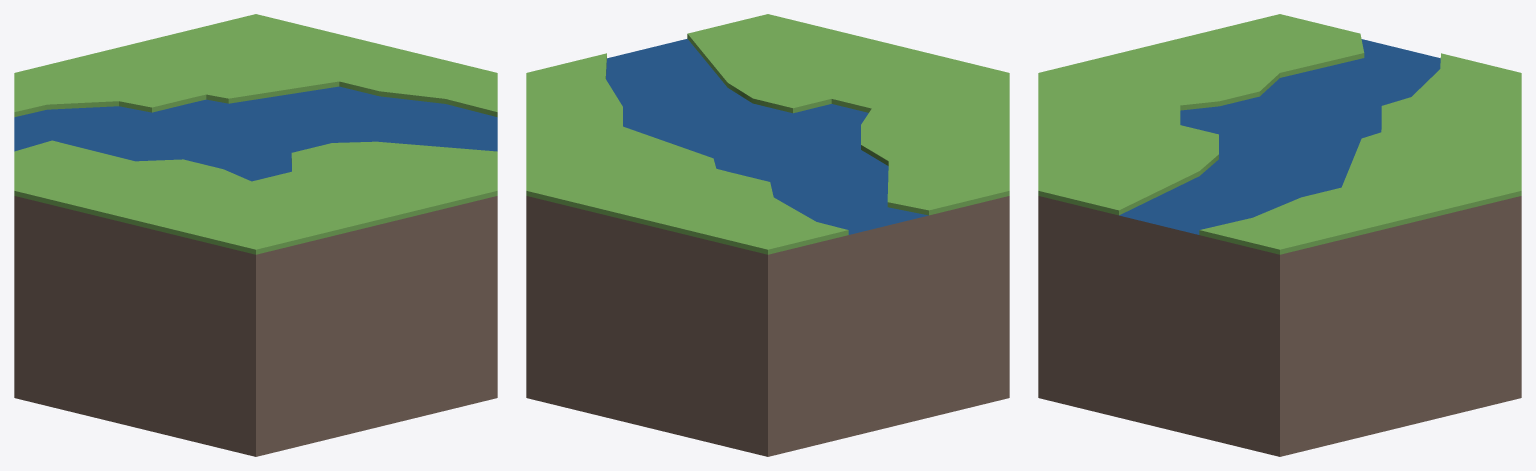
Rendered from tile_river05.fbx.
The picture shows the model from 3 angles, left to right: view 1: azimuth 30°, elevation 25°; view 2: azimuth 150°, elevation 25°; view 3: azimuth 270°, elevation 25°; orthographic projection.
Parts seen in each view (by area): view 1: Tile_River3; view 2: Tile_River3; view 3: Tile_River3.
Part boxes in pixels (x1,y1,x2,y2): Tile_River3: (14,14,497,456); Tile_River3: (526,14,1009,456); Tile_River3: (1038,14,1521,456).
Size of the model in its own units: 2 by 0.82 by 1.73.
